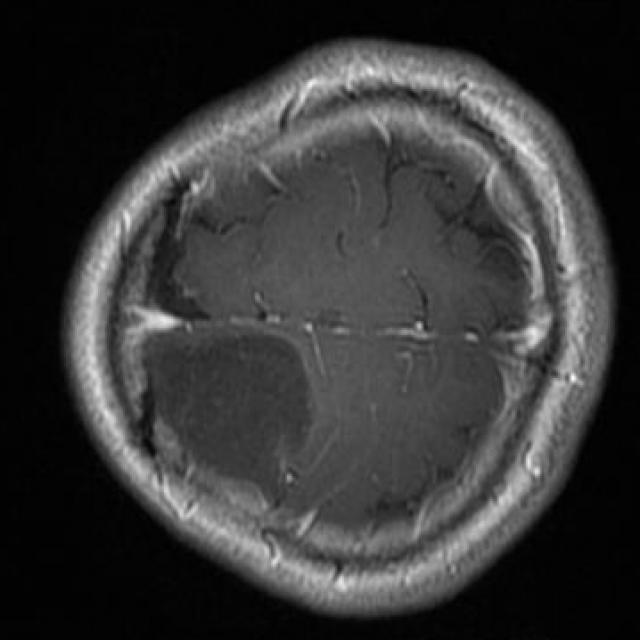glioma: (146, 323, 310, 508)
